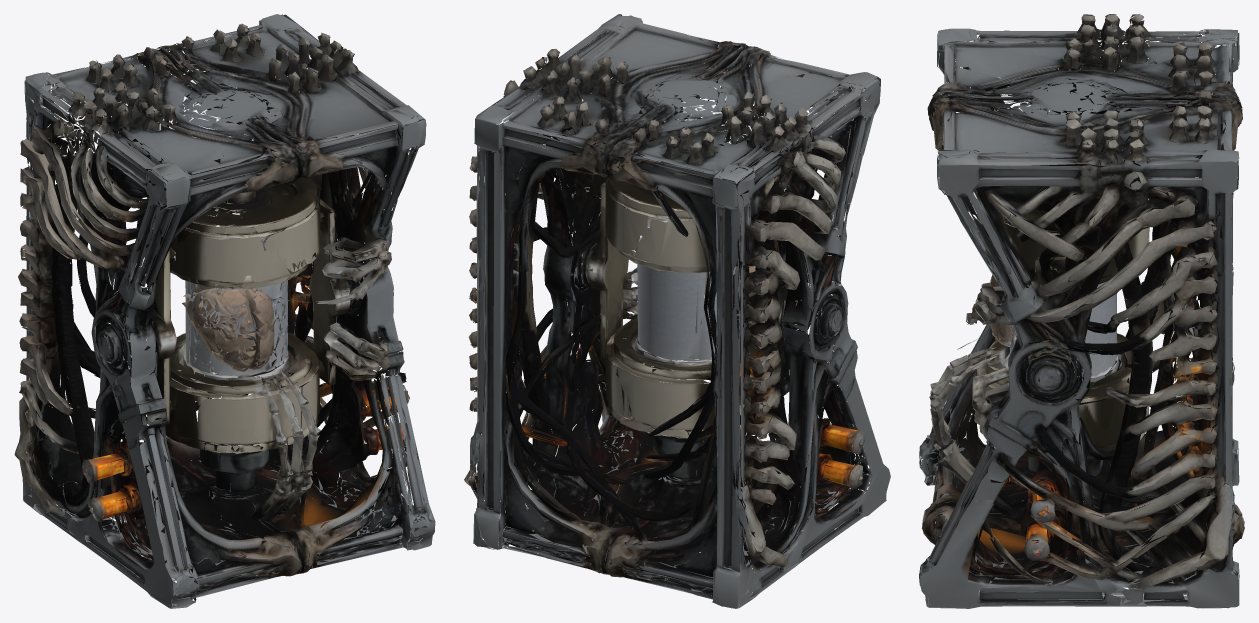
File: meridian_logic_core_drum.glb
3 views of the same model, side by side, from view 1: azimuth 30°, elevation 25°; view 2: azimuth 150°, elevation 25°; view 3: azimuth 270°, elevation 25° (orthographic). The views are drawn at different scales.
Parts seen in each view (by area): view 1: node_0; view 2: node_0; view 3: node_0.
Boxes of the visible parts, <box> form: node_0: <box>14,14,435,608</box>; node_0: <box>464,14,890,608</box>; node_0: <box>919,14,1244,608</box>.
Bounding box in the file's own units: 0.7006 × 0.917 × 0.579.
1 material, 1 textured.
